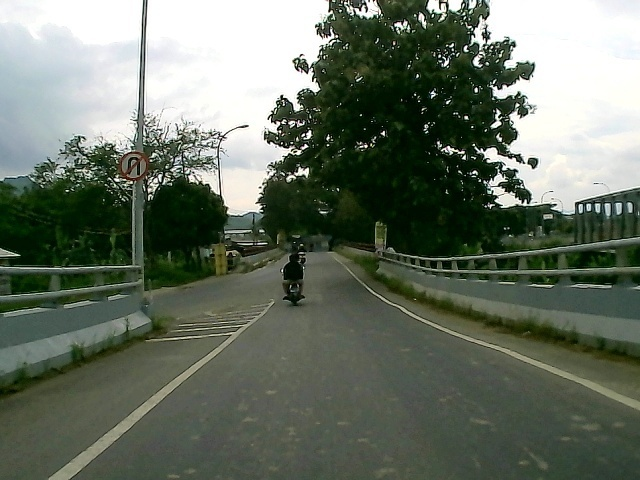Dilarang berbalik arah: (118, 149, 150, 183)
